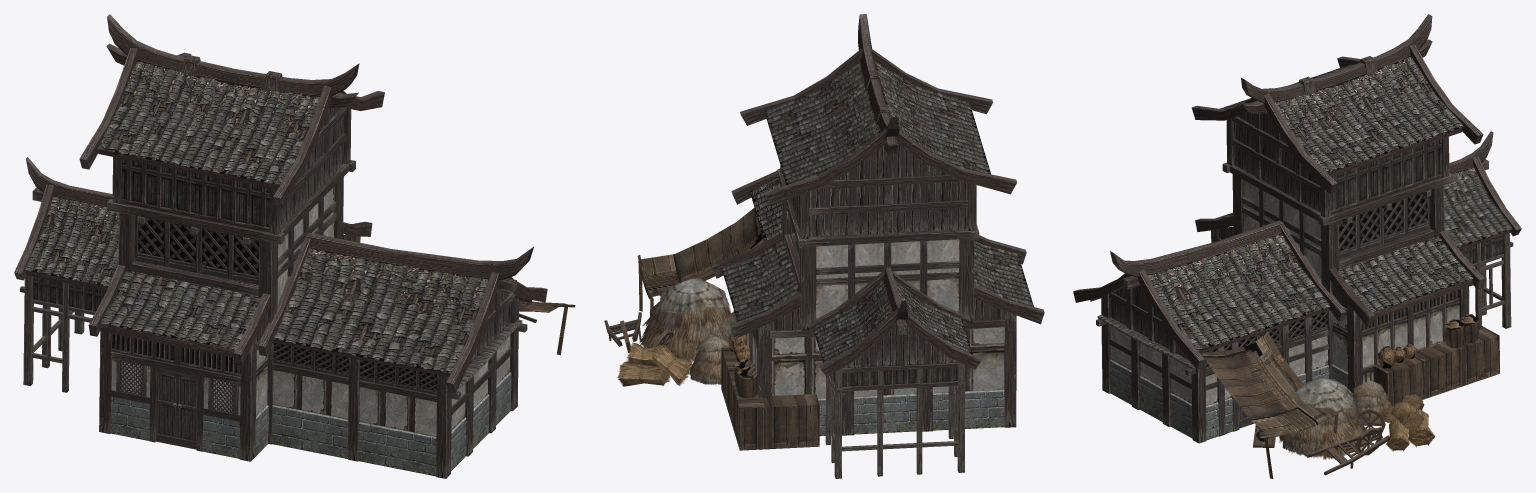
File: chinese_house.glb
3 renders of one model, left to right at view 1: azimuth 30°, elevation 25°; view 2: azimuth 150°, elevation 25°; view 3: azimuth 270°, elevation 25°, orthographic. The views are drawn at different scales.
Parts seen in each view (by area): view 1: Object_6; view 2: Object_6; view 3: Object_6.
Part boxes in pixels (x1=…): Object_6: x1=14, y1=14, x2=575, y2=478; Object_6: x1=604, y1=14, x2=1044, y2=478; Object_6: x1=1073, y1=14, x2=1521, y2=478.
Bounding box in the file's own units: 9.83 × 7.33 × 9.53.
7 materials, 7 textured.
